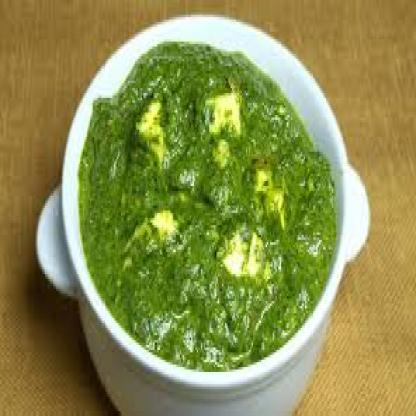palak_paneer: (78, 41, 336, 372)
